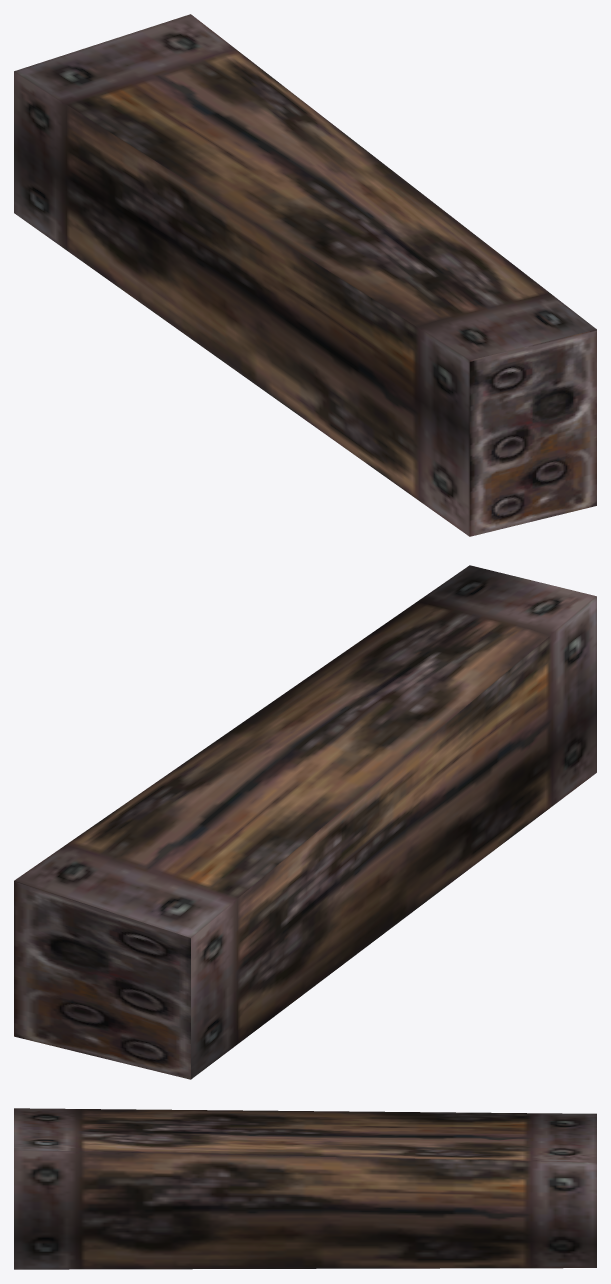
File: catapultbeam.obj
3 views of the same model, one above another, from view 1: azimuth 30°, elevation 25°; view 2: azimuth 150°, elevation 25°; view 3: azimuth 270°, elevation 25° (orthographic). The views are drawn at different scales.
Visible parts, largest first — view 1: Geoset1, Geoset0; view 2: Geoset1, Geoset0; view 3: Geoset1.
Part boxes in pixels (x1=…): Geoset1: x1=14, y1=14, x2=596, y2=536; Geoset0: x1=469, y1=329, x2=596, y2=536; Geoset1: x1=14, y1=565, x2=596, y2=1079; Geoset0: x1=14, y1=881, x2=190, y2=1079; Geoset1: x1=14, y1=1108, x2=596, y2=1269.
Bounding box in the file's own units: 0.7259 × 0.6918 × 3.06.
Materials: 2 (2 with a texture image).
